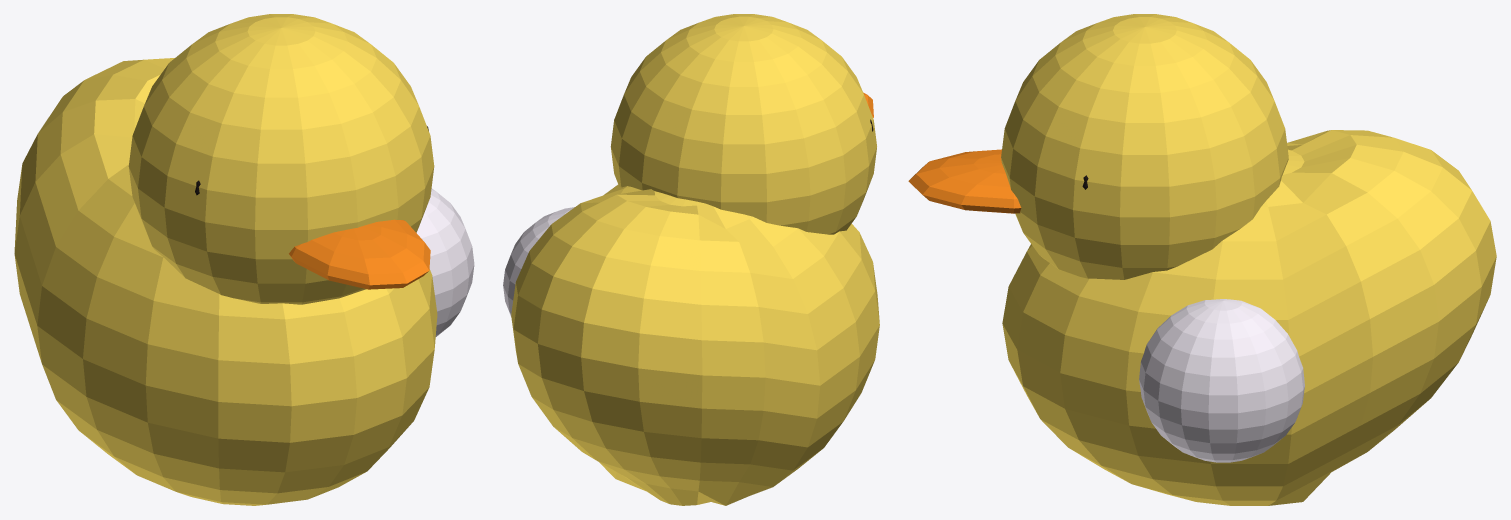
Rendered from dewey.glb.
3 renders of one model, left to right at view 1: azimuth 30°, elevation 25°; view 2: azimuth 150°, elevation 25°; view 3: azimuth 270°, elevation 25°, orthographic. The views are drawn at different scales.
Visible parts, largest first — view 1: DuckBody, Head, Bill, FreshwaterPearl; view 2: DuckBody, Head, FreshwaterPearl; view 3: DuckBody, Head, FreshwaterPearl, Bill.
Part boxes in pixels (x1,y1,x2,y2): DuckBody: (14, 58, 437, 505); Head: (128, 14, 434, 304); Bill: (289, 219, 430, 289); FreshwaterPearl: (416, 188, 474, 336); DuckBody: (511, 184, 879, 505); Head: (610, 14, 876, 234); FreshwaterPearl: (503, 207, 574, 316); DuckBody: (1002, 130, 1496, 505); Head: (1001, 14, 1288, 279); FreshwaterPearl: (1139, 299, 1304, 462); Bill: (908, 149, 1021, 213).
Bounding box in the file's own units: 0.3219 × 0.39 × 0.45.
